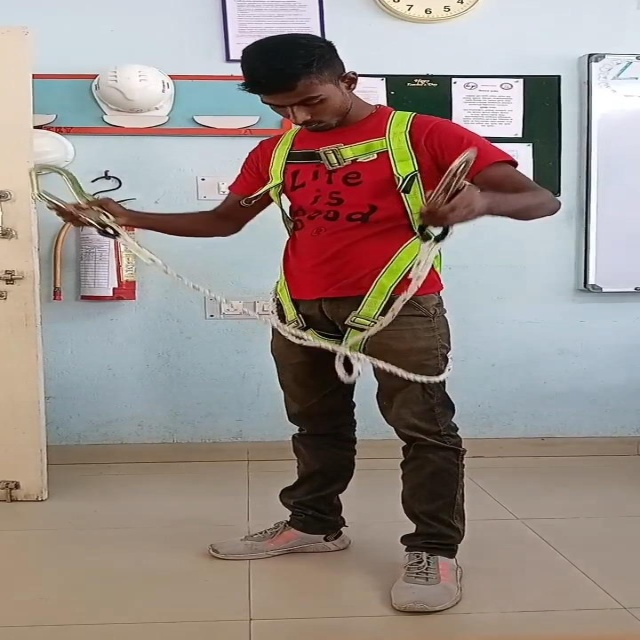Arnes_seguridad: (265, 108, 470, 350)
